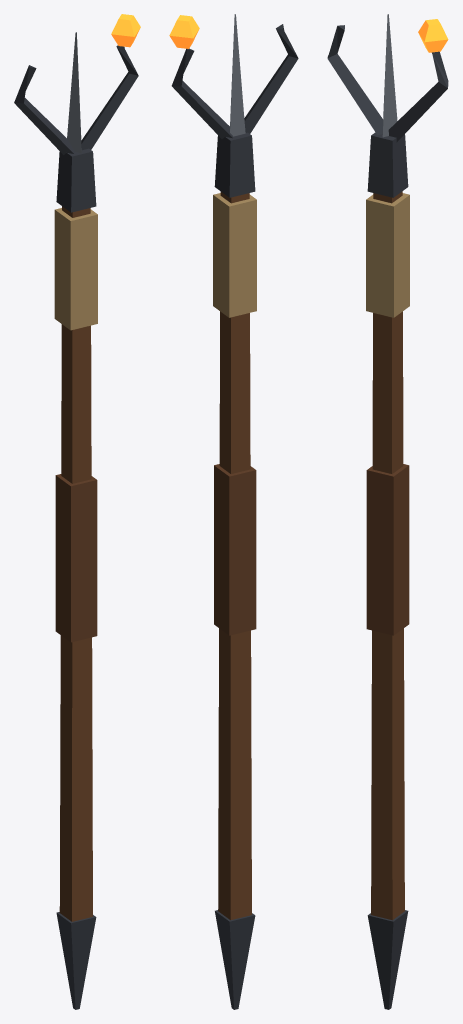
Rendered from SM_Prop_Linstock_LQ.glb.
3 renders of one model, left to right at view 1: azimuth 30°, elevation 25°; view 2: azimuth 210°, elevation 25°; view 3: azimuth 330°, elevation 25°, orthographic.
Visible parts, largest first — view 1: SM_Prop_Linstock_LQ; view 2: SM_Prop_Linstock_LQ; view 3: SM_Prop_Linstock_LQ.
Boxes of the visible parts, x1,y1,x2,y2 form: SM_Prop_Linstock_LQ: (14,14,140,1009); SM_Prop_Linstock_LQ: (169,14,298,1009); SM_Prop_Linstock_LQ: (327,14,448,1009).
Bounding box in the file's own units: 0.1643 × 1.26 × 0.0444.
Materials: 1 (1 with a texture image).
